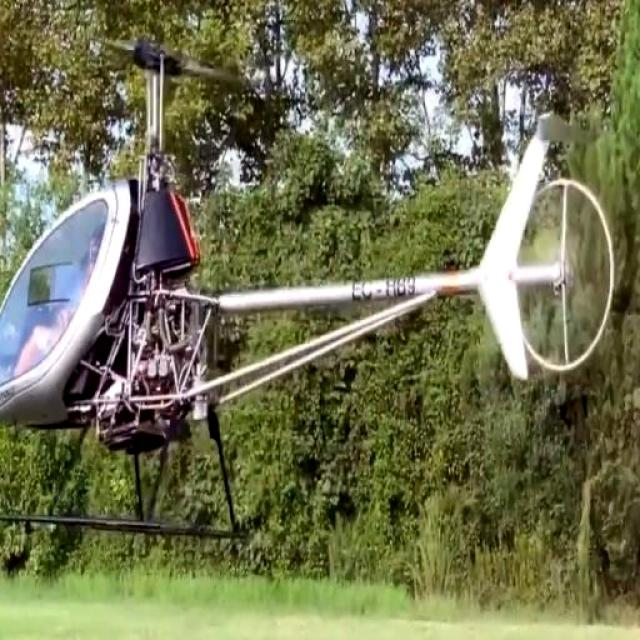drone: (0, 0, 640, 581)
